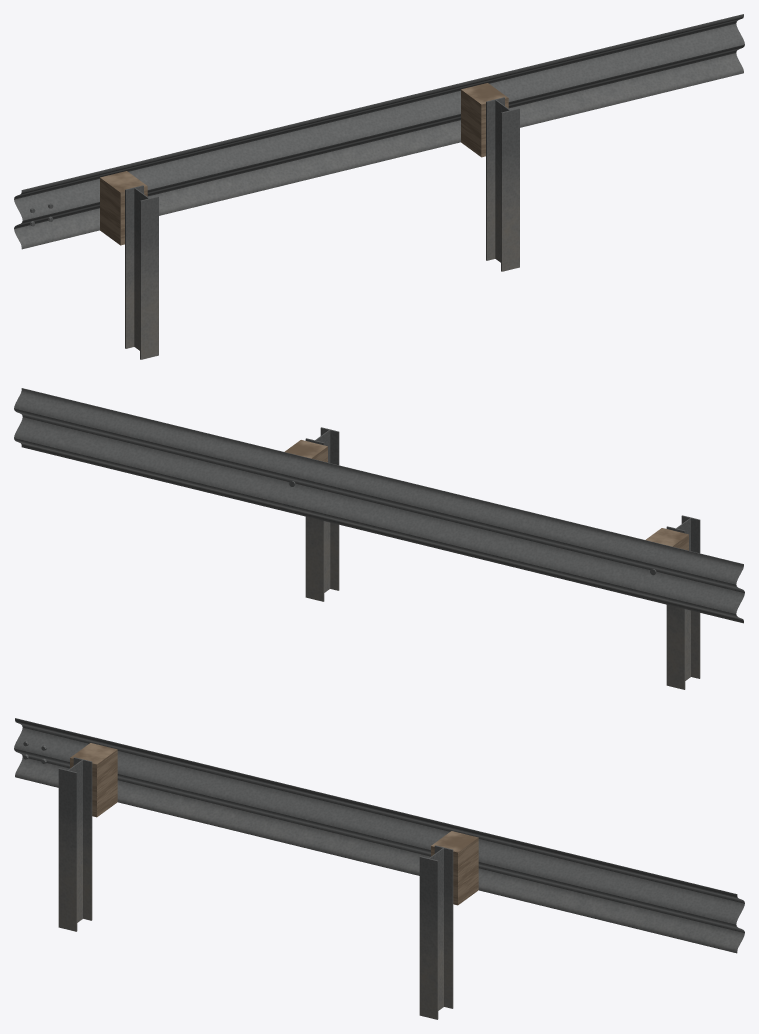
The model's file is SM_guardrail_section_4m.fbx.
3 renders of one model, top to bottom at view 1: azimuth 30°, elevation 25°; view 2: azimuth 150°, elevation 25°; view 3: azimuth 330°, elevation 25°, orthographic.
Parts seen in each view (by area): view 1: SM_guardrail_section_4m; view 2: SM_guardrail_section_4m; view 3: SM_guardrail_section_4m.
Boxes of the visible parts, bbox=[...] form: SM_guardrail_section_4m: bbox=[14, 14, 744, 359]; SM_guardrail_section_4m: bbox=[14, 388, 744, 689]; SM_guardrail_section_4m: bbox=[14, 718, 744, 1019].
Bounding box in the file's own units: 4 × 0.856 × 0.439.
